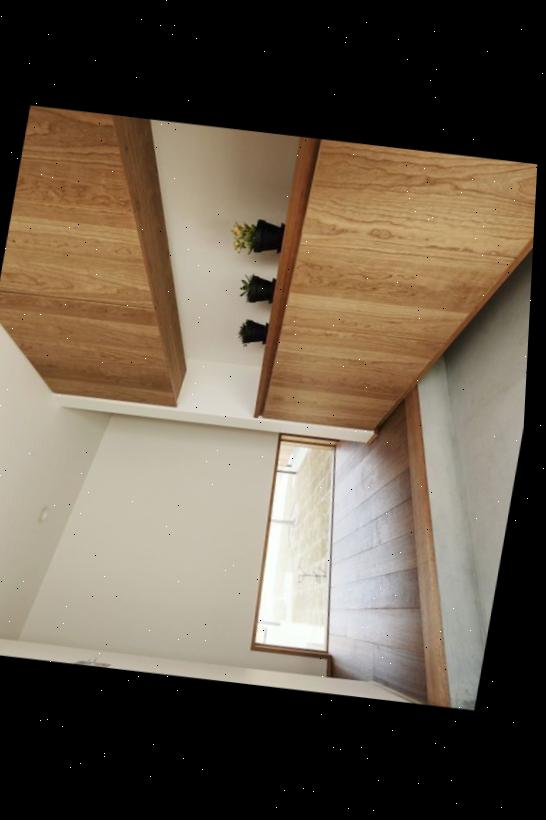floor: (441, 246, 533, 644)
safe: (326, 383, 450, 708)
